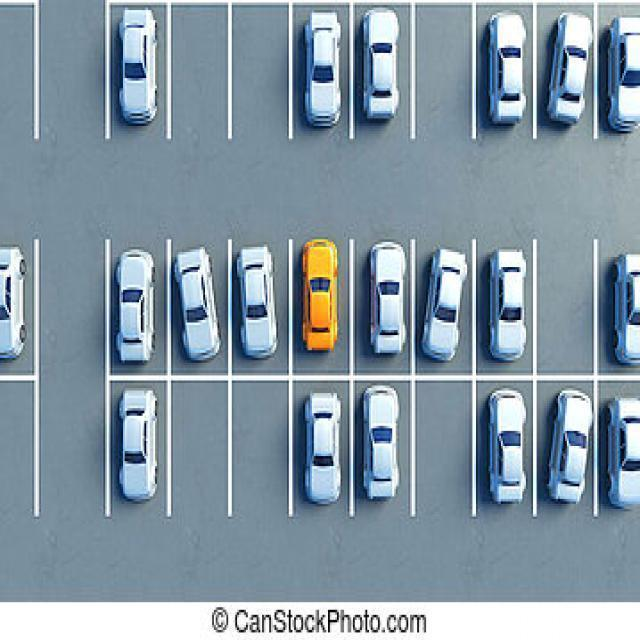car: (481, 385, 533, 509), (547, 388, 597, 507), (420, 247, 470, 366), (485, 248, 533, 371), (485, 248, 533, 370), (109, 246, 157, 365), (113, 385, 160, 506), (172, 247, 219, 365), (547, 11, 594, 129), (299, 389, 344, 509), (116, 7, 160, 129), (485, 10, 530, 129), (548, 11, 593, 129), (360, 383, 404, 503), (233, 244, 277, 363), (364, 240, 408, 359), (300, 11, 343, 131), (298, 236, 341, 355), (362, 8, 404, 123), (604, 13, 640, 137), (604, 395, 640, 513), (606, 251, 640, 371), (211, 605, 228, 632)
